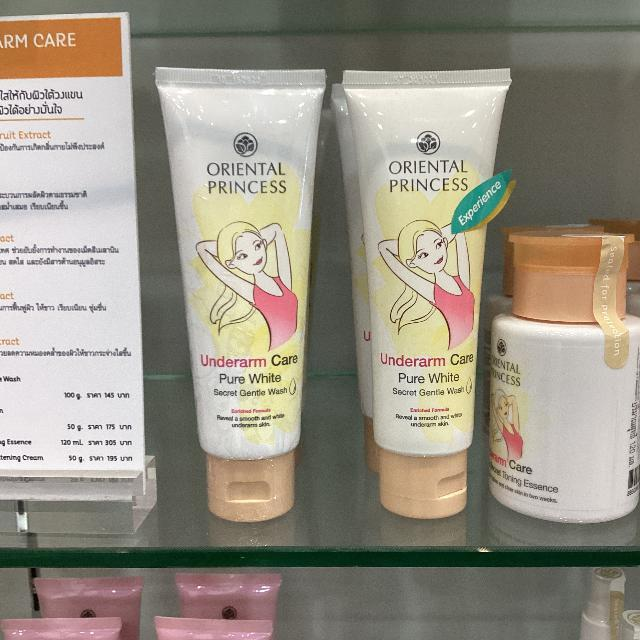Squeeze Tube: (157, 30, 502, 520), (159, 55, 332, 517), (347, 71, 505, 510)
